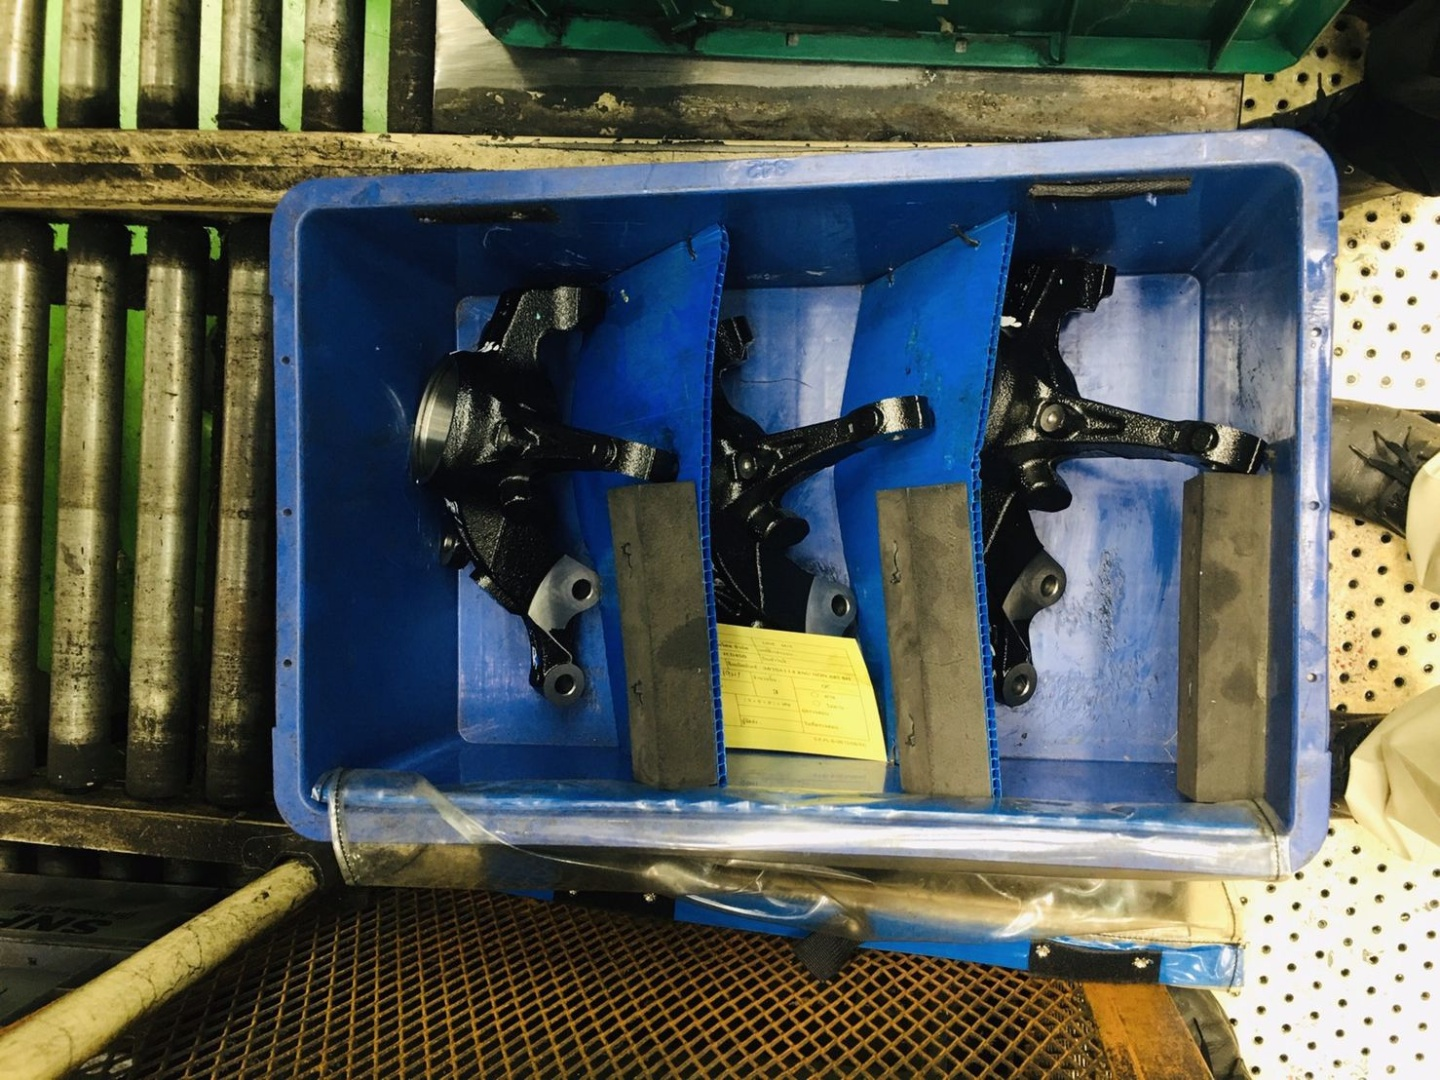non-rh: (976, 242, 1274, 716), (401, 258, 694, 722), (696, 295, 937, 734)
